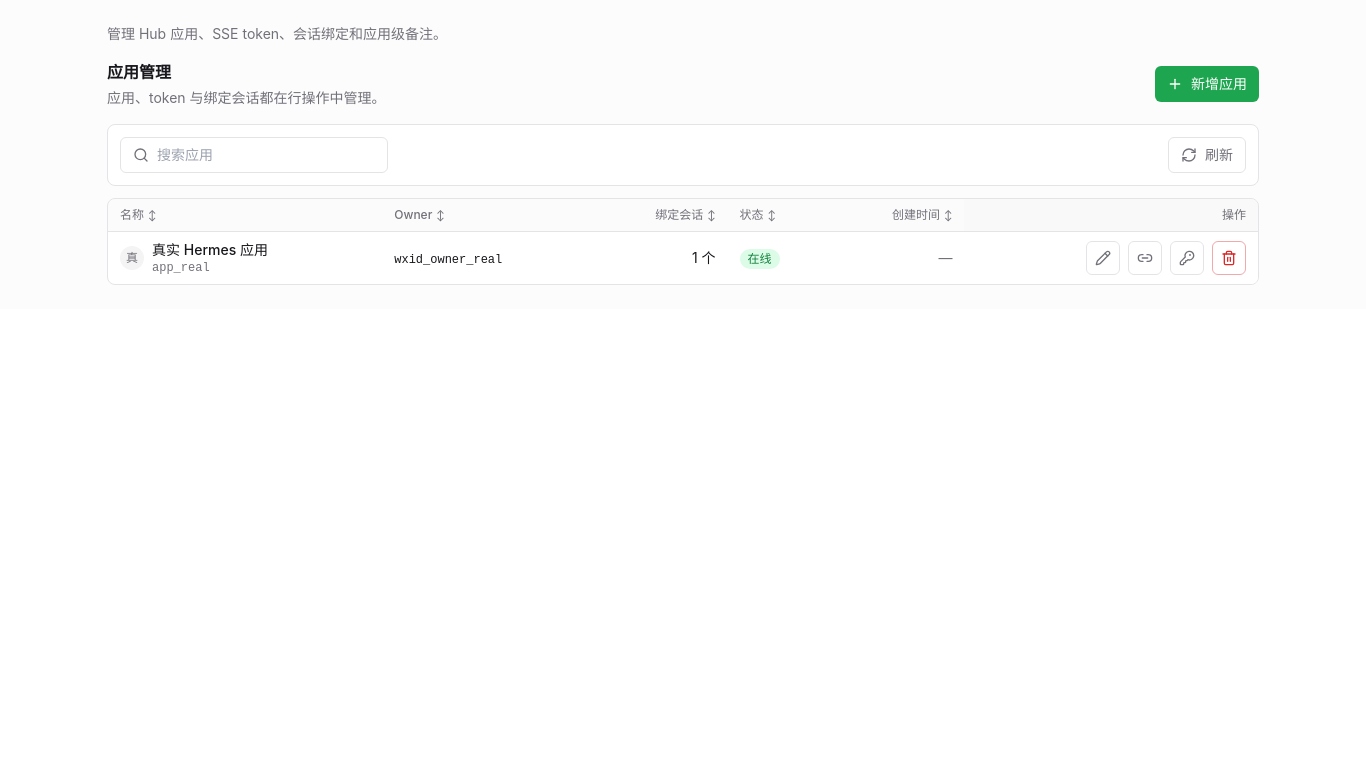
Test: AdminPage › 应用管理可以查看应用绑定会话列表
This screenshot has width=1366, height=768.
Step 1. Click the button named "查看绑定会话" → (1145, 258), box [1128, 241, 1162, 275]
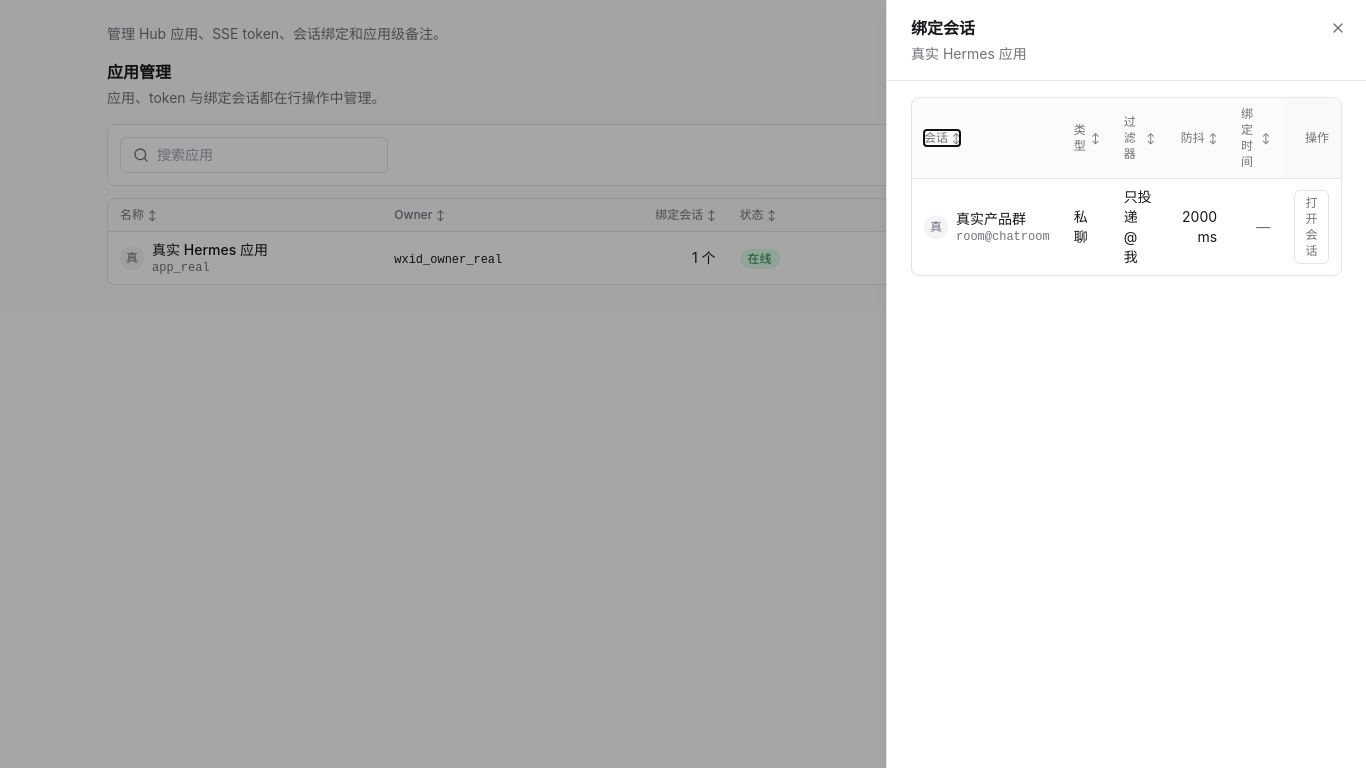
Expected: the text "真实产品群" is shown, [956, 210, 1026, 227]
Expected: the text "只投递 @ 我" is shown, [1112, 178, 1167, 275]
